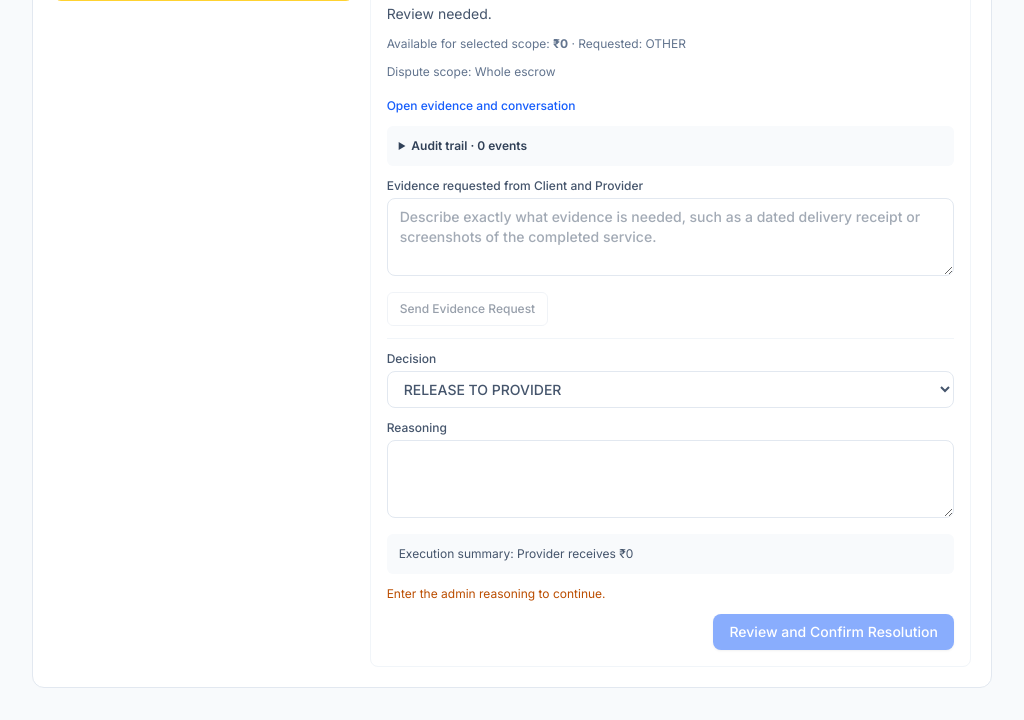
Test case: admin dispute management › explains that a dispute without completed funding cannot be resolved
The image size is (1024, 720).
(page scrolled)
Step 1. Type "Review completed." into the text box labelled "Reasoning" → (670, 479), box 387,440 -> 954,518
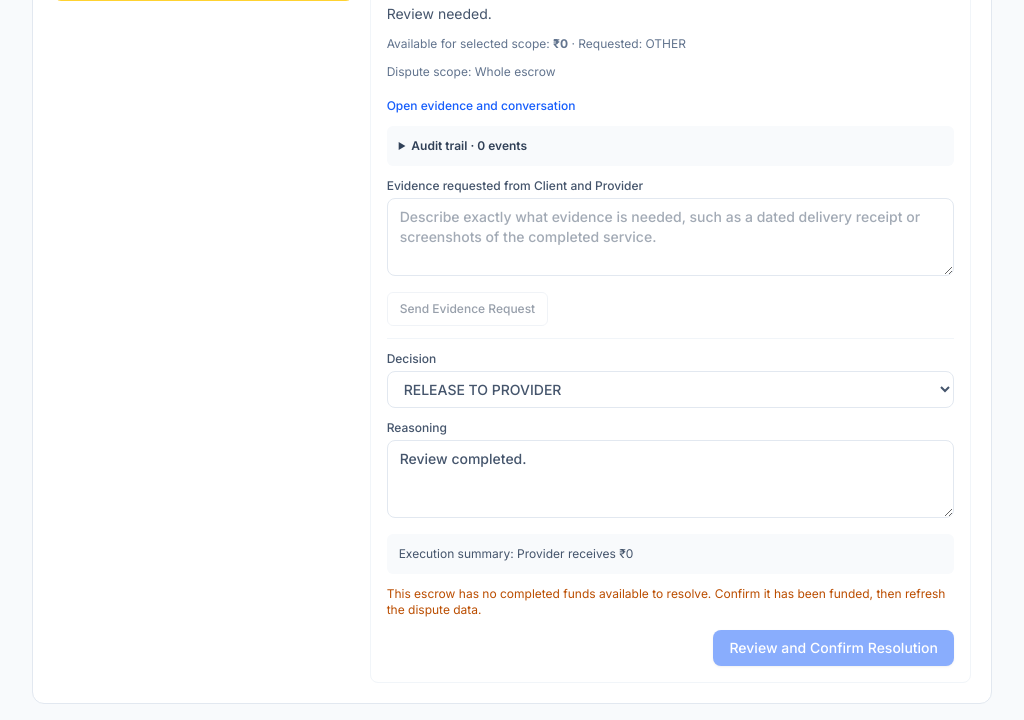
Check: the button "Review and Confirm Resolution" is disabled, box 714,630 -> 954,666
Check: the text "no completed funds available to resolve" is shown, box 387,586 -> 945,617
